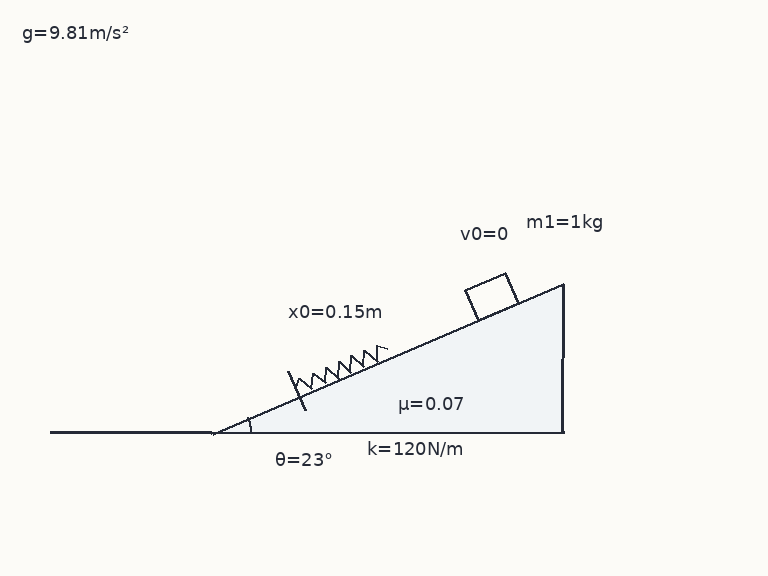block: (463, 271, 520, 322)
ramp: (209, 282, 565, 435)
spring: (293, 343, 389, 390)
